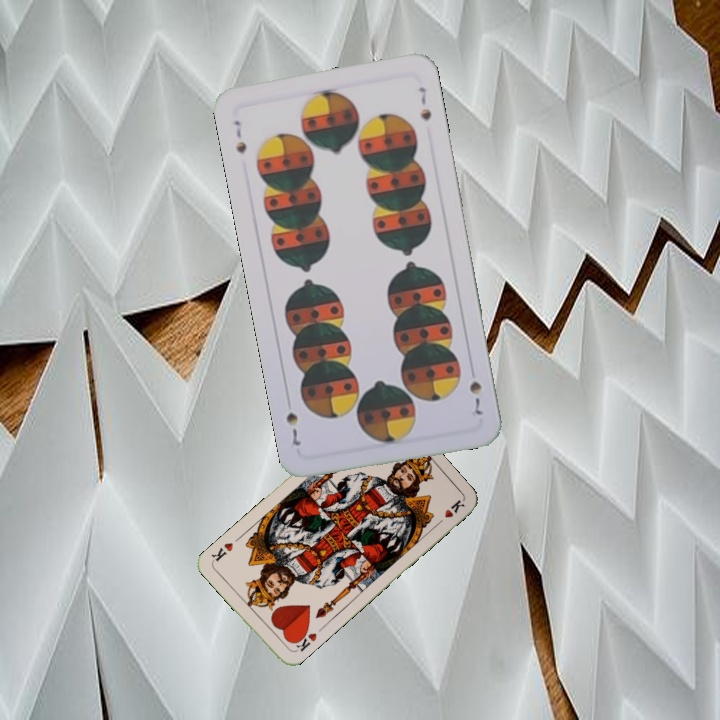HK: (289, 626, 319, 655)
S7: (229, 116, 249, 157), (465, 377, 484, 418)
